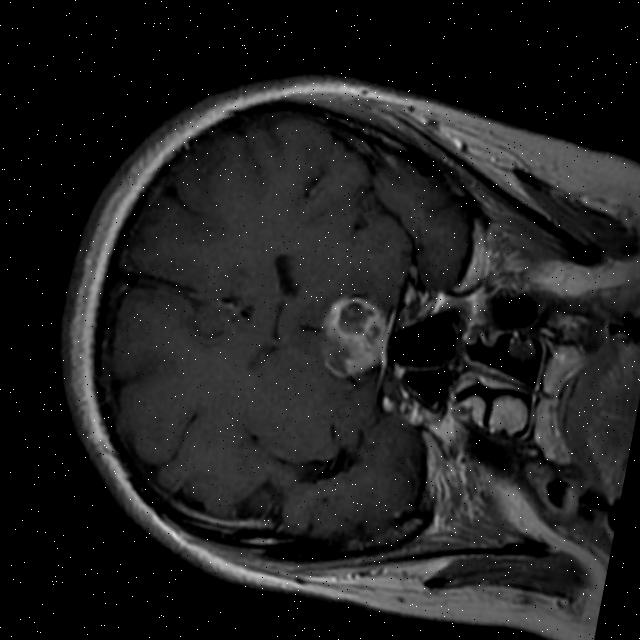Pituitary: (311, 286, 397, 388)
